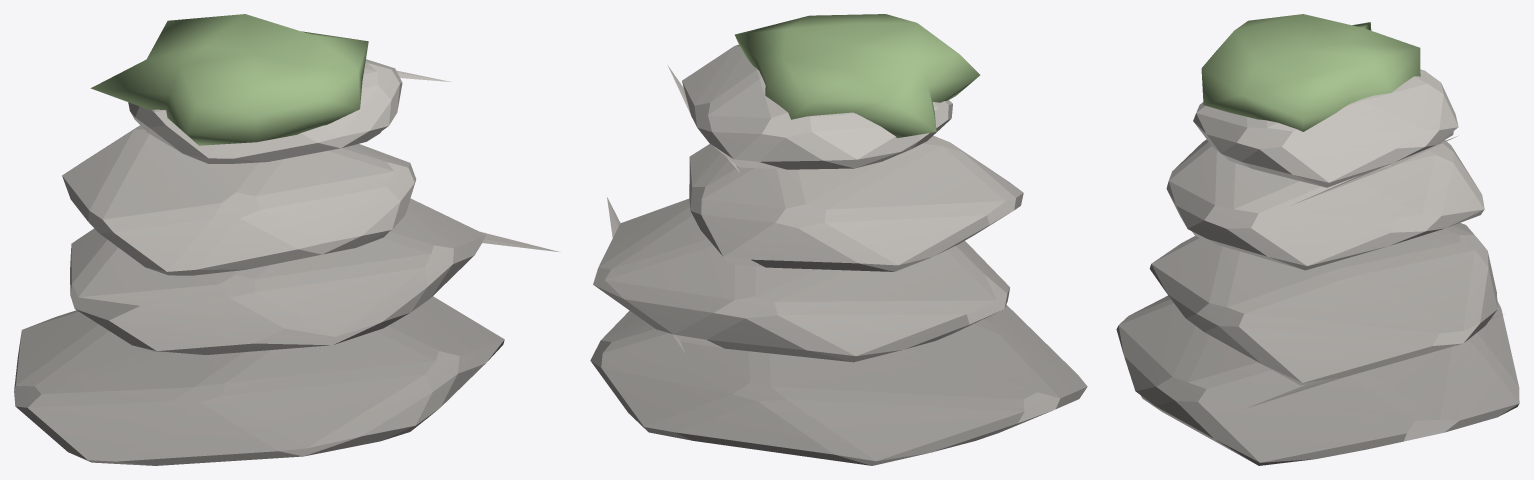
File: fels_5.glb
The picture shows the model from 3 angles, left to right: view 1: azimuth 30°, elevation 25°; view 2: azimuth 150°, elevation 25°; view 3: azimuth 270°, elevation 25°; orthographic projection. The views are drawn at different scales.
Visible parts, largest first — view 1: G_fels_5; view 2: G_fels_5; view 3: G_fels_5.
Part boxes in pixels (x1=…): G_fels_5: x1=14, y1=14, x2=560, y2=465; G_fels_5: x1=590, y1=14, x2=1087, y2=465; G_fels_5: x1=1116, y1=14, x2=1519, y2=465.
Bounding box in the file's own units: 2.73 × 1.76 × 2.01.
